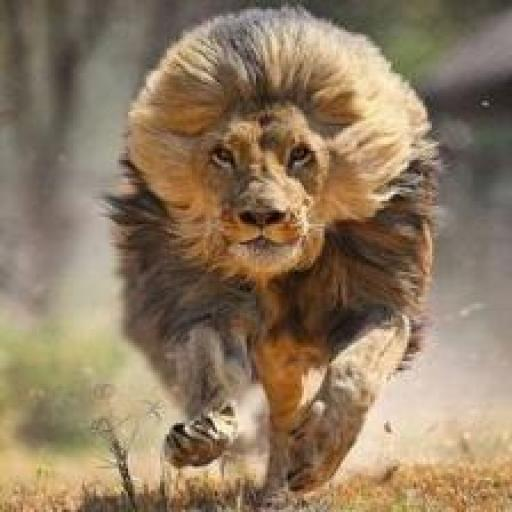lion: (130, 16, 434, 289)
